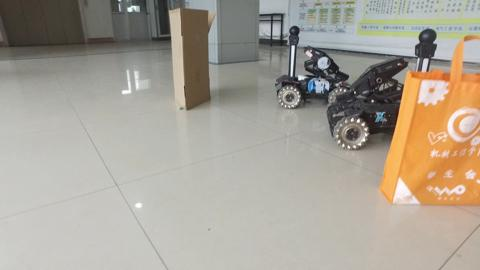bag: (391, 49, 480, 210)
box: (170, 9, 209, 109)
chariot: (329, 28, 437, 150), (281, 26, 350, 111)
